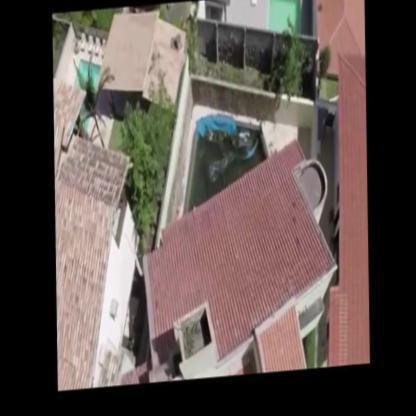agua: (197, 129, 253, 183)
